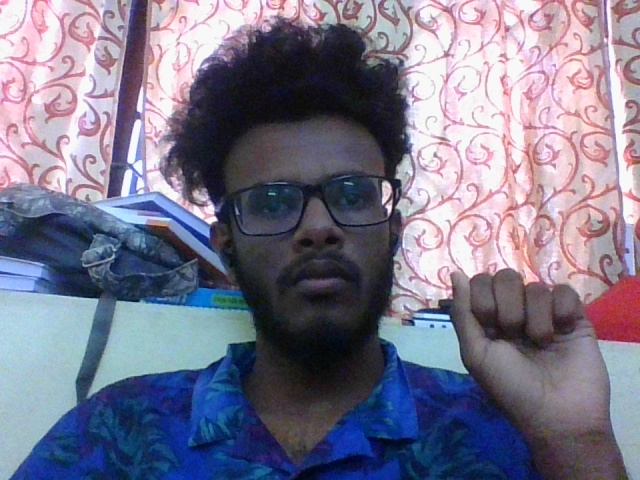yes: (443, 263, 633, 480)
